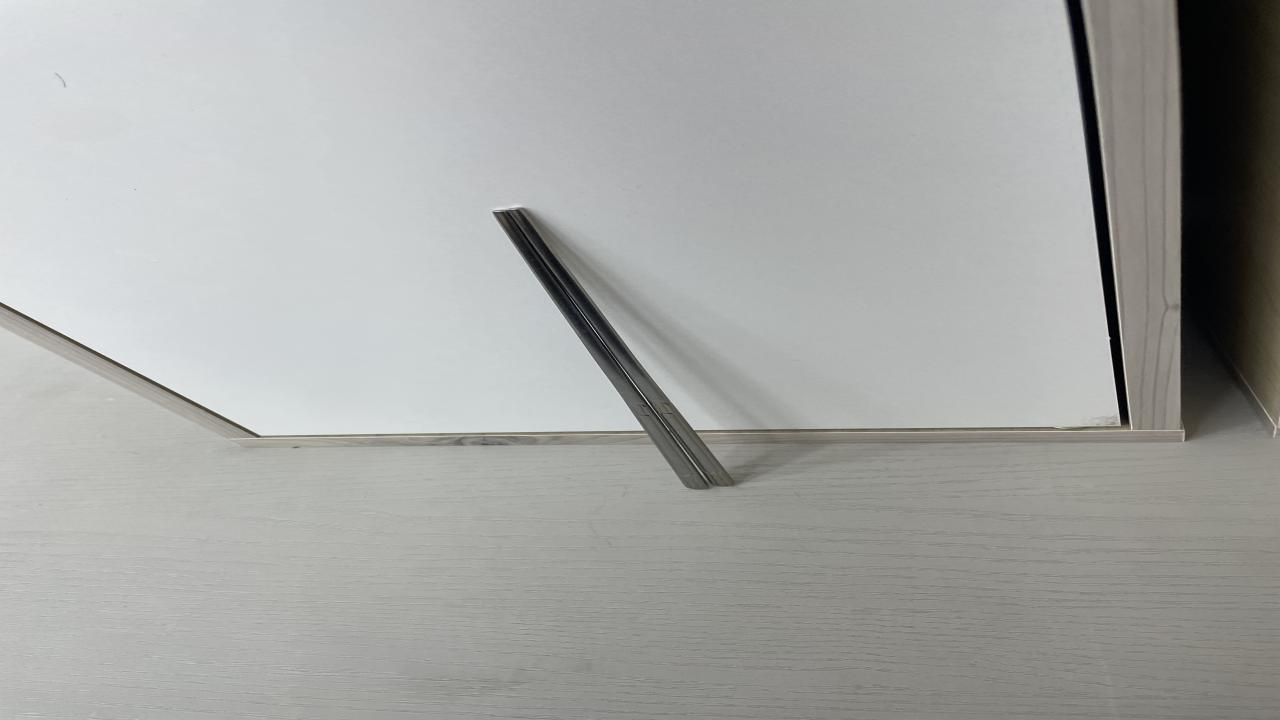chopstick: (498, 208, 734, 489)
